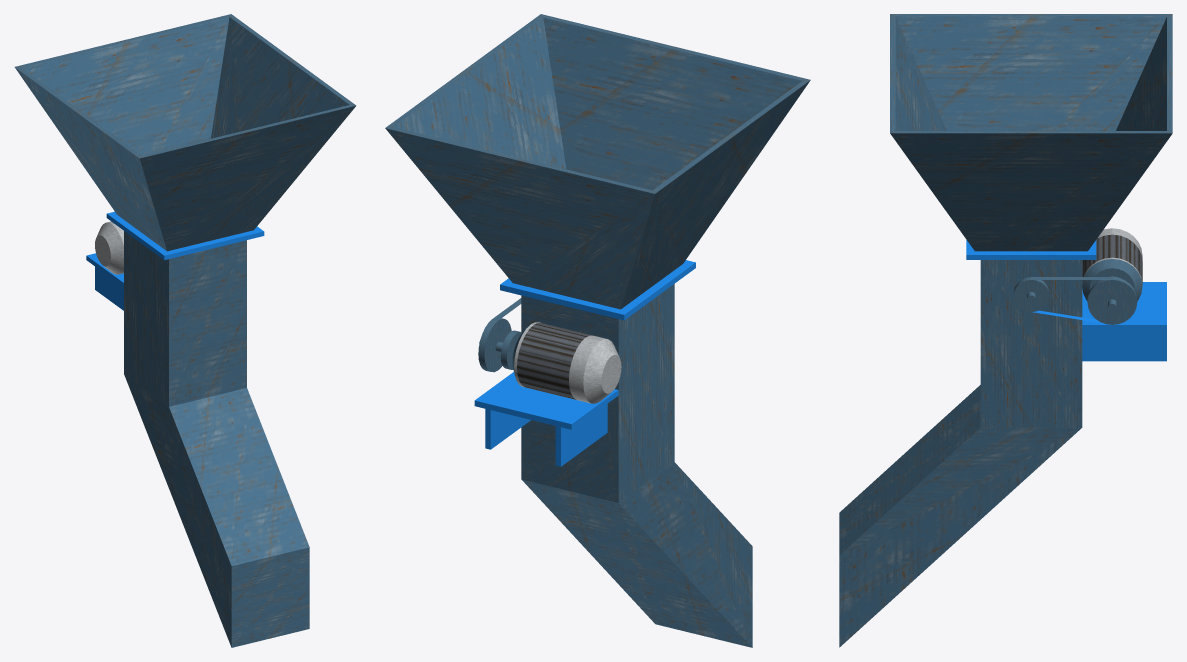
The model's file is 关风机.glb.
The picture shows the model from 3 angles, left to right: view 1: azimuth 30°, elevation 25°; view 2: azimuth 150°, elevation 25°; view 3: azimuth 270°, elevation 25°; orthographic projection. The views are drawn at different scales.
Parts seen in each view (by area): view 1: root.001, root.002, root.003; view 2: root.001, root.002, root, root.003; view 3: root.001, root.002, root.
Part boxes in pixels (<box>): root.001: <box>14,14,356,647</box>; root.002: <box>86,211,264,310</box>; root.003: <box>95,221,123,274</box>; root.001: <box>385,14,810,647</box>; root.002: <box>474,260,695,466</box>; root: <box>517,323,592,399</box>; root.003: <box>514,322,621,403</box>; root.001: <box>839,14,1172,647</box>; root.002: <box>966,240,1166,361</box>; root: <box>1082,234,1142,284</box>.
Size of the model in its own units: 1 by 2.16 by 1.18.
4 materials, 3 textured.
